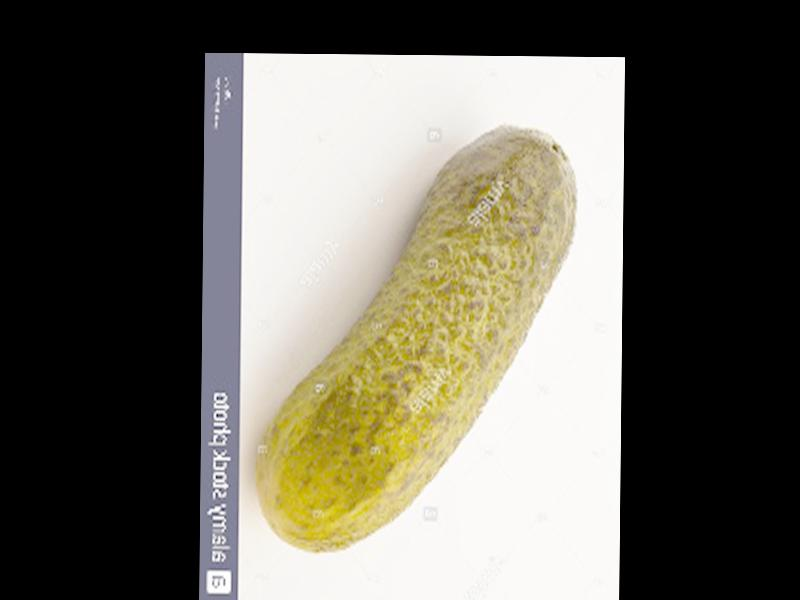Cucumber: (256, 124, 575, 557)
